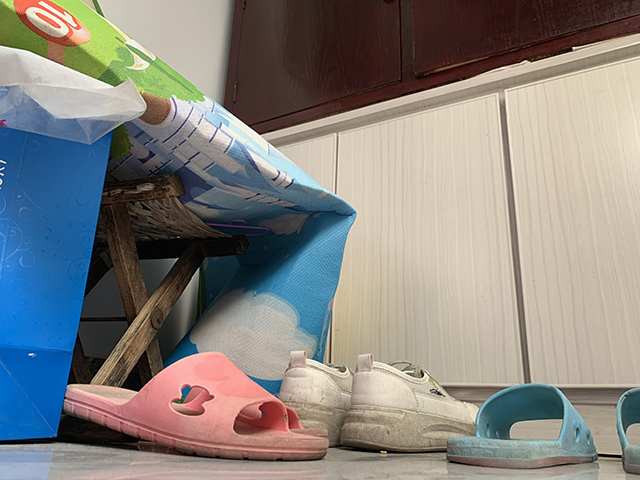cabinet: (257, 33, 640, 459)
slippers: (62, 350, 331, 463), (444, 382, 640, 475)
stool: (59, 172, 251, 446)
